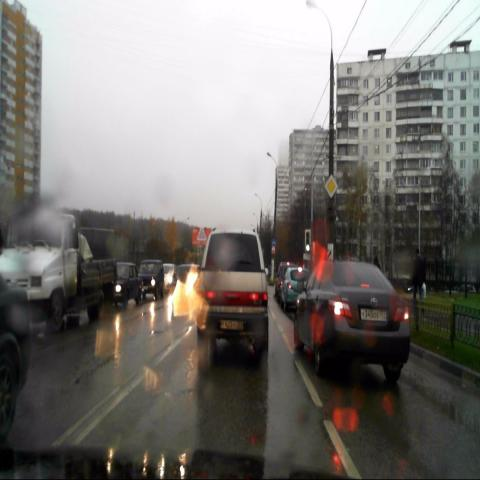2_1: (325, 174, 338, 199)
